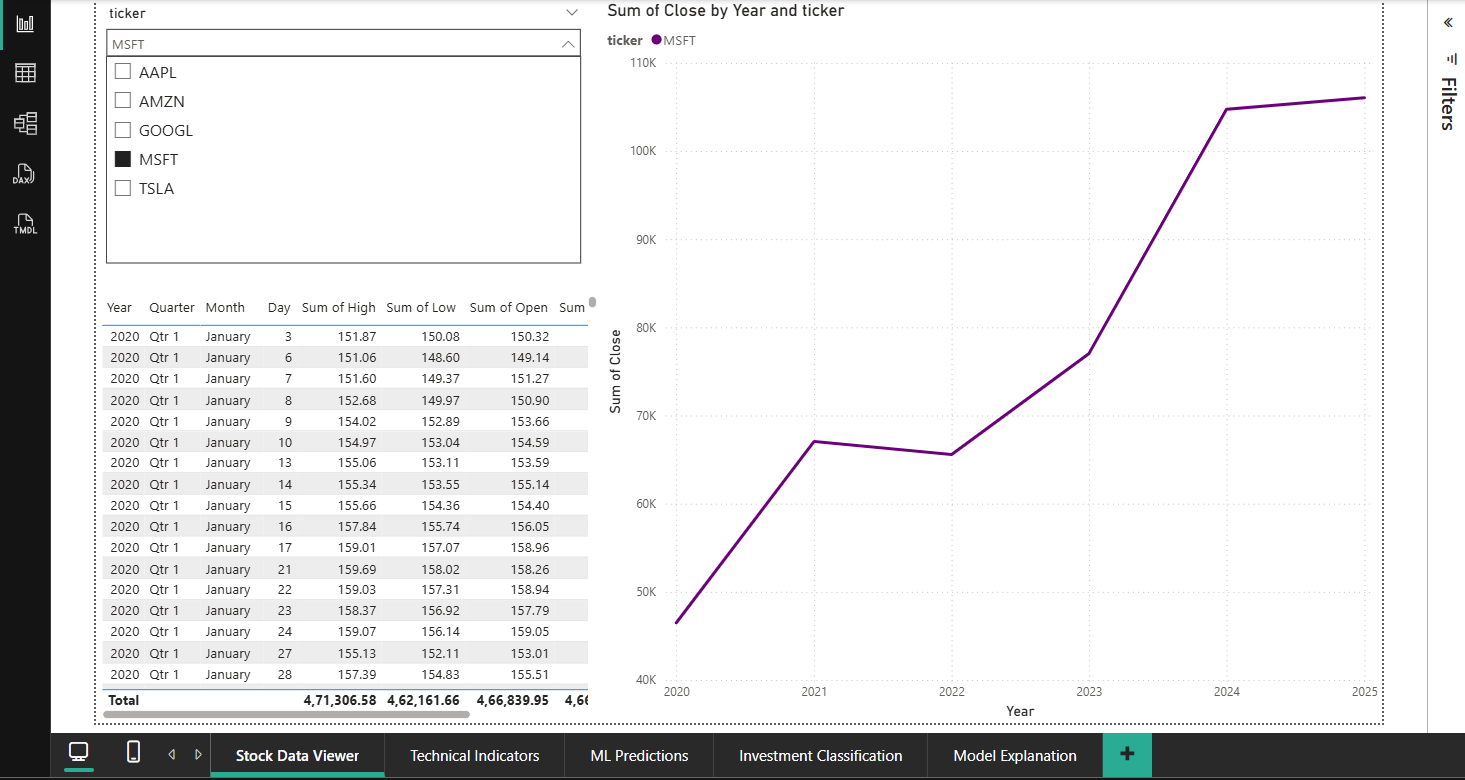

The page's visual inventory and layout, read from the dashboard file:
{"tool":"powerbi","page":{"name":"Stock Data Viewer","canvas":[1280,720],"ordinal":0},"visuals":[{"type":"slicer","fields":{"Values":["technical_indicators.ticker"]},"box":[0,0,492.6,279.9],"z":0},{"type":"tableEx","fields":{"Values":["technical_indicators.date.Variation.Date Hierarchy.Year","technical_indicators.date.Variation.Date Hierarchy.Quarter","technical_indicators.date.Variation.Date Hierarchy.Month","technical_indicators.date.Variation.Date Hierarchy.Day","Sum(technical_indicators.High)","Sum(technical_indicators.Low)","Sum(technical_indicators.Open)","Sum(technical_indicators.Close)","Sum(technical_indicators.Volume)"]},"box":[0,289.5,503.6,430.9],"z":1000},{"type":"lineChart","fields":{"Category":["technical_indicators.date.Variation.Date Hierarchy.Year","technical_indicators.date.Variation.Date Hierarchy.Quarter","technical_indicators.date.Variation.Date Hierarchy.Month","technical_indicators.date.Variation.Date Hierarchy.Day"],"Y":["Sum(technical_indicators.Close)"],"Series":["technical_indicators.ticker"]},"box":[503.6,0,776.7,720.4],"z":2000}]}

Visuals, with their boxes on the page's 1280x720 design canvas (x1, y1, x2, y2). These are canvas units, not pixel positions in the 1465x780 screenshot, which may show the page scaled, cropped or inside an application window:
slicer - technical_indicators.ticker: BBox(0, 0, 493, 280)
tableEx - technical_indicators.date.Variation.Date Hierarchy.Year x technical_indicators.date.Variation.Date Hierarchy.Quarter: BBox(0, 290, 504, 720)
lineChart - technical_indicators.date.Variation.Date Hierarchy.Year x technical_indicators.date.Variation.Date Hierarchy.Quarter: BBox(504, 0, 1280, 720)
